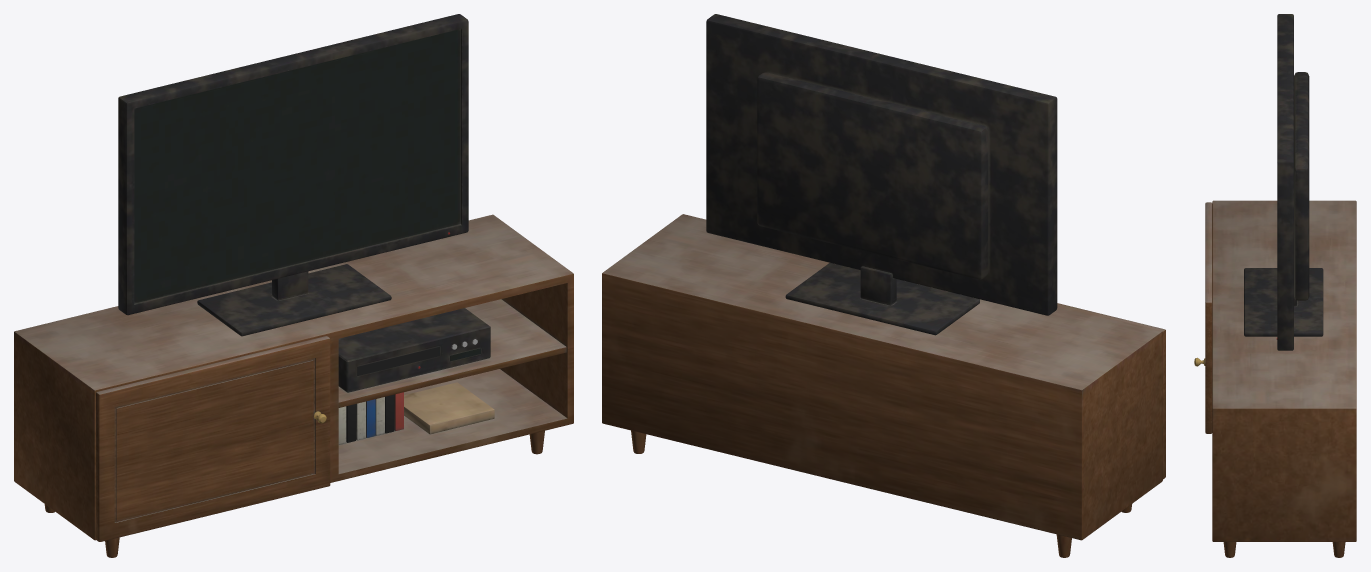
Rendered from rack_tv.glb.
3 views of the same model, side by side, from view 1: azimuth 30°, elevation 25°; view 2: azimuth 150°, elevation 25°; view 3: azimuth 270°, elevation 25° (orthographic). The views are drawn at different scales.
Visible parts, largest first — view 1: tv, rack, porta_esq; view 2: rack, tv, porta_esq; view 3: rack, tv, porta_esq.
Part boxes in pixels (left/top/right/bottom): tv: left=118, top=14, right=468, bottom=336; rack: left=14, top=214, right=573, bottom=557; porta_esq: left=96, top=336, right=330, bottom=541; rack: left=602, top=214, right=1162, bottom=557; tv: left=706, top=14, right=1057, bottom=335; porta_esq: left=1057, top=303, right=1165, bottom=479; rack: left=1212, top=200, right=1356, bottom=557; tv: left=1244, top=14, right=1323, bottom=350; porta_esq: left=1194, top=202, right=1212, bottom=433.
Bounding box in the file's own units: 1.4 × 1.18 × 0.4615.
Materials: 2 (2 with a texture image).
